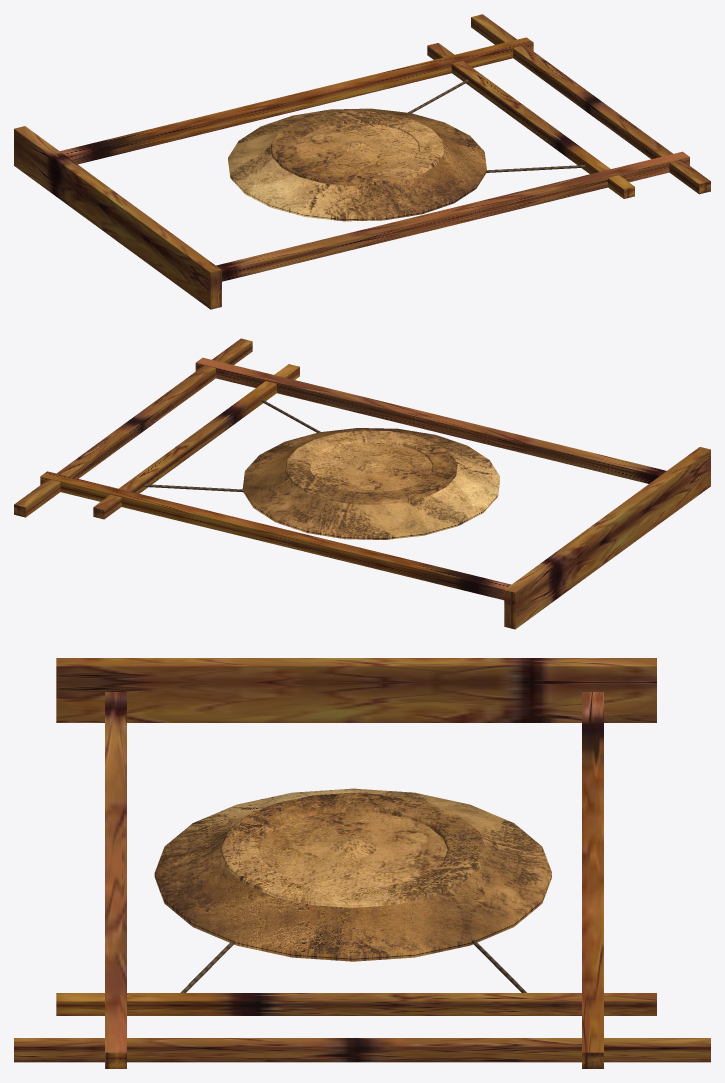
Rendered from Gong.fbx.
3 renders of one model, top to bottom at view 1: azimuth 30°, elevation 25°; view 2: azimuth 150°, elevation 25°; view 3: azimuth 270°, elevation 25°, orthographic. The views are drawn at different scales.
Visible parts, largest first — view 1: pCube7; view 2: pCube7; view 3: pCube7.
Boxes of the visible parts, bbox=[...] form: pCube7: bbox=[14, 14, 710, 309]; pCube7: bbox=[14, 338, 710, 629]; pCube7: bbox=[14, 658, 710, 1068].
Size of the model in its own units: 203 by 14.49 by 162.
